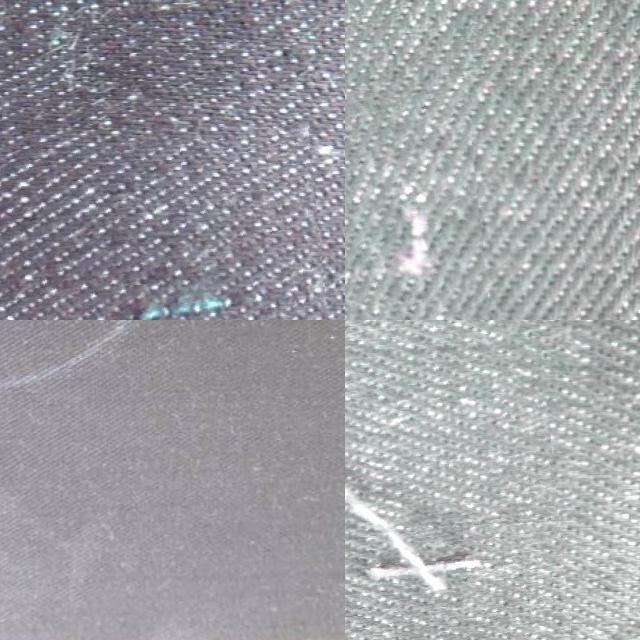Thread_other: (345, 320, 564, 640), (0, 133, 330, 320), (345, 94, 486, 320)
